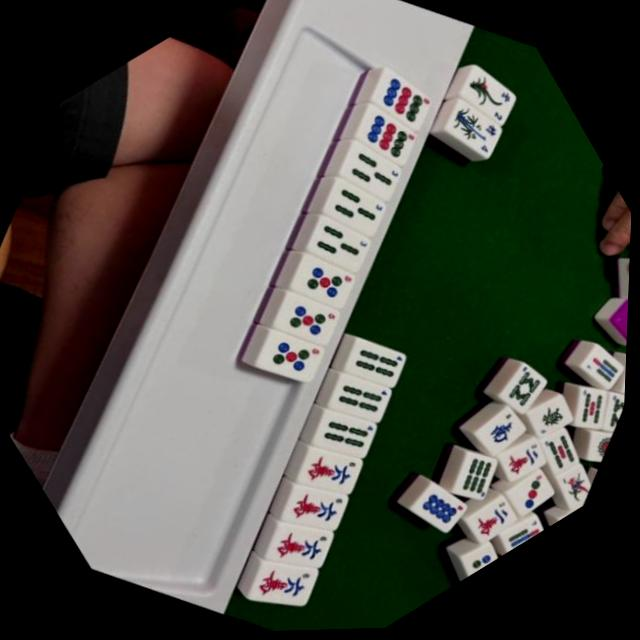bf2: (439, 51, 534, 146)
bf4: (428, 90, 514, 178)
sb3: (296, 202, 385, 292), (313, 165, 399, 253), (329, 129, 415, 216)
sb4: (301, 393, 388, 481), (331, 322, 418, 409), (322, 360, 402, 441)
sc6: (254, 504, 348, 597), (238, 542, 332, 634), (287, 429, 375, 518), (271, 468, 359, 556)
sd5: (246, 314, 336, 404), (281, 241, 367, 328), (266, 280, 352, 366)
sd9: (355, 56, 448, 149), (344, 95, 430, 182)
